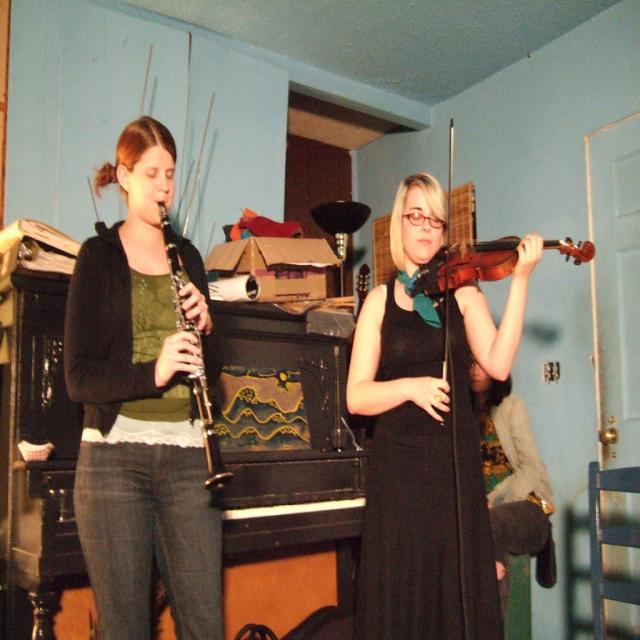clarinet: (158, 201, 236, 500)
violin: (418, 235, 596, 297)
